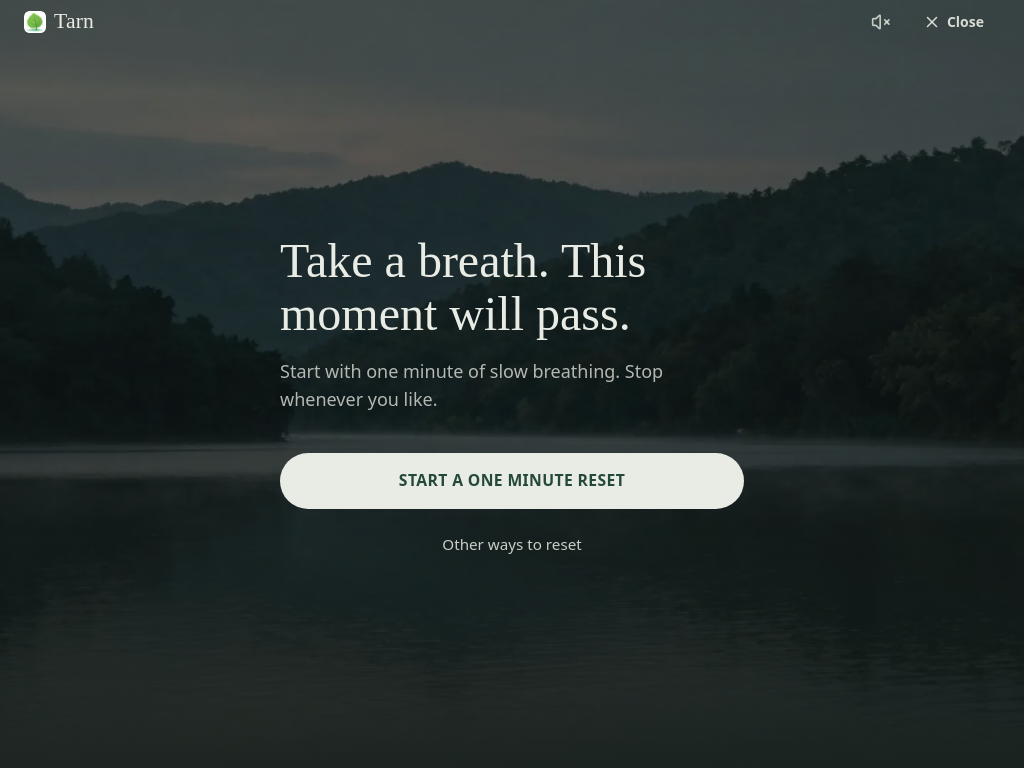
calm › “still difficult” is met with support, not failure
Step 1. Click the button "Other ways to reset" → (512, 545), box [280, 521, 744, 569]
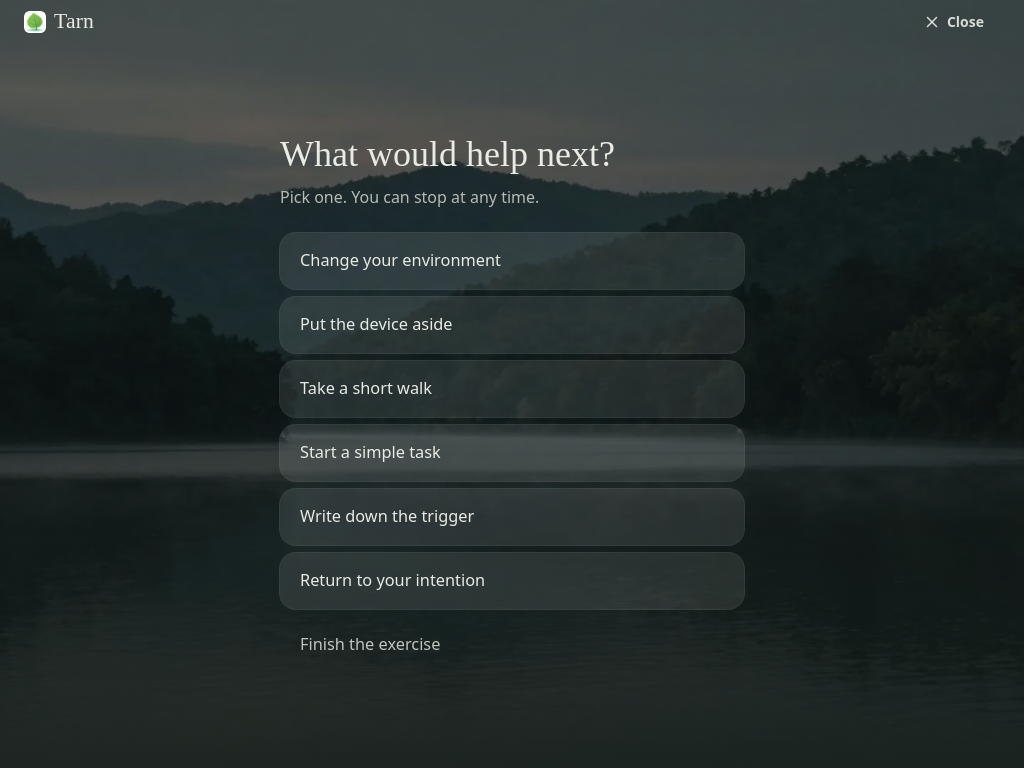
Step 2. Click the button "Finish the exercise" → (370, 644), box [280, 616, 744, 672]
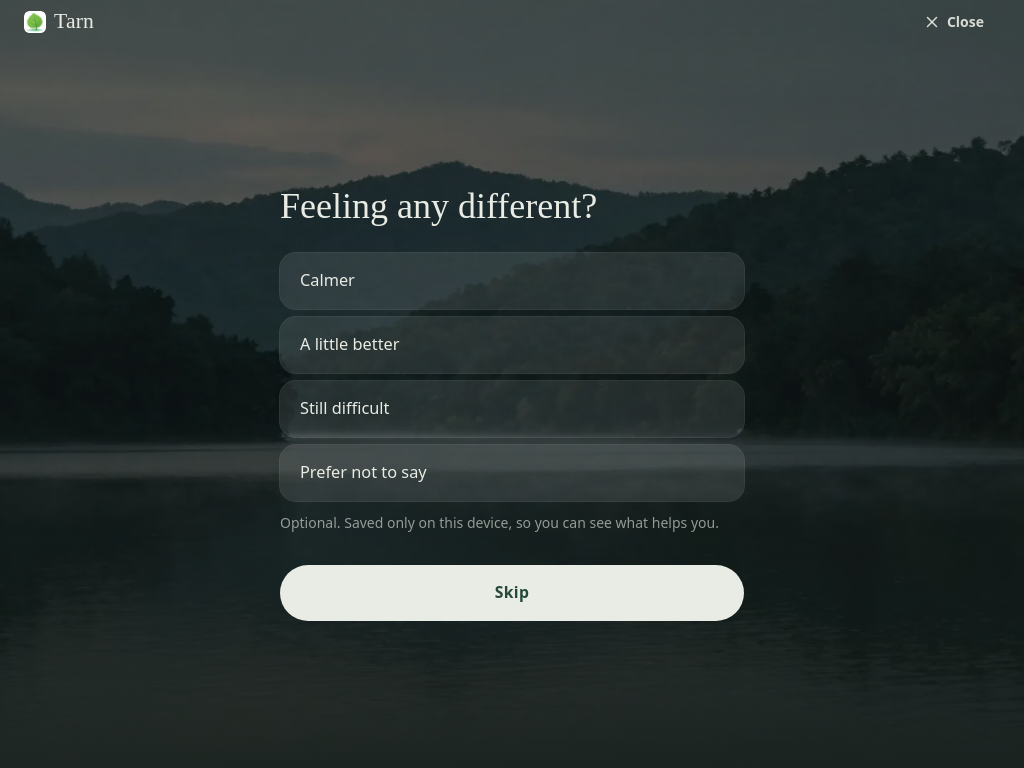
Step 3. Click the radio button labelled "Still difficult" → (345, 408), box [280, 380, 744, 436]
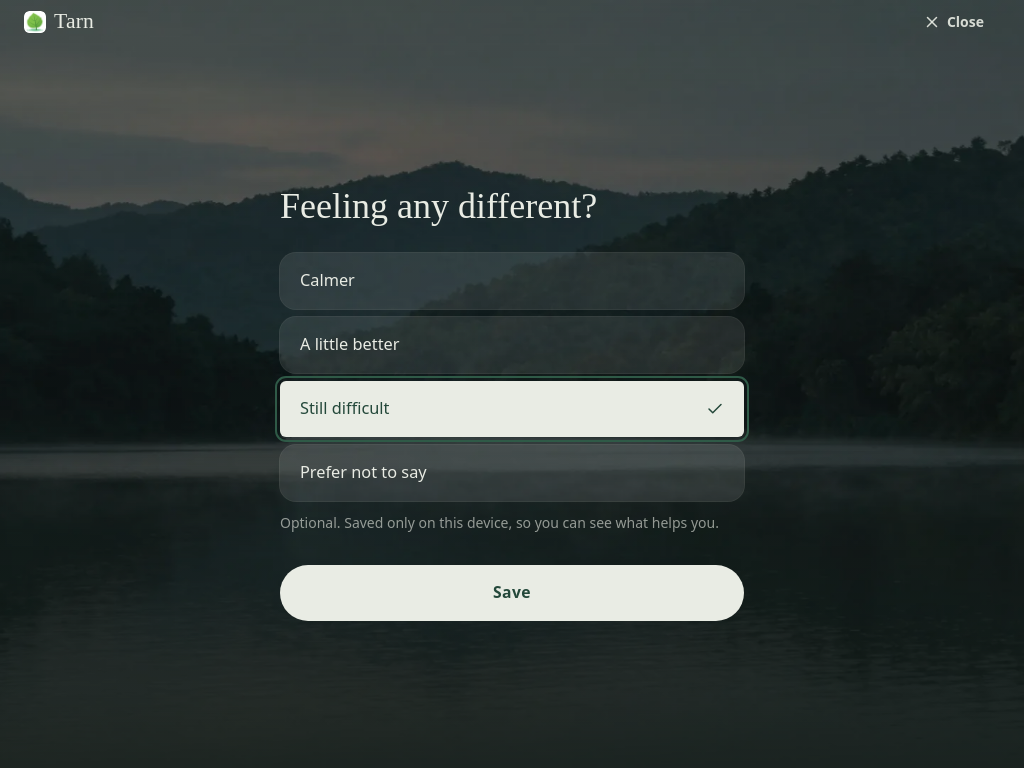
Step 4. Click the button "Save" → (512, 592), box [280, 564, 744, 620]
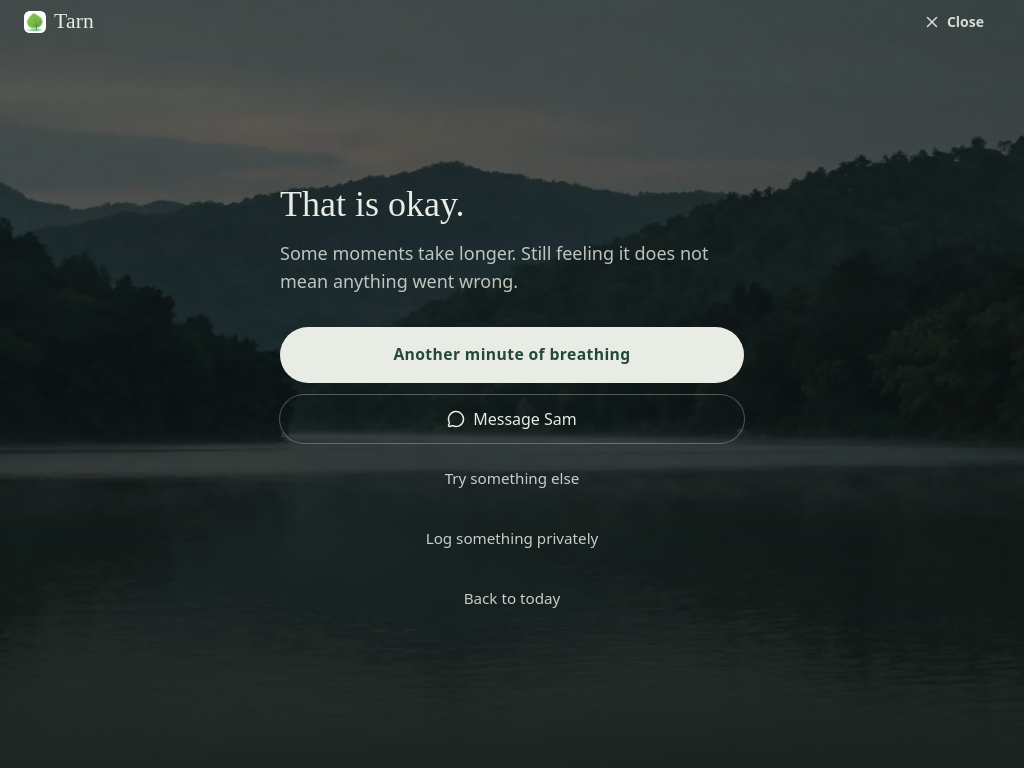
Expected: the heading "That is okay." is shown, [280, 184, 465, 224]
